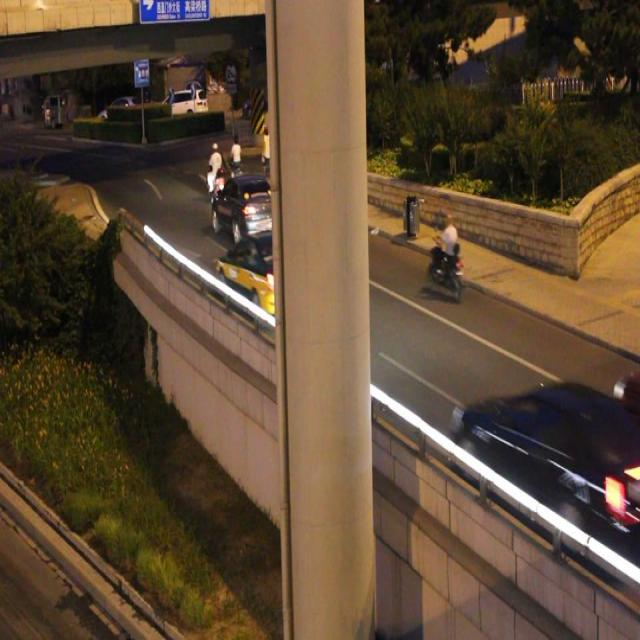car: (453, 381, 640, 552), (215, 229, 312, 323), (210, 172, 287, 248), (608, 360, 640, 457)
